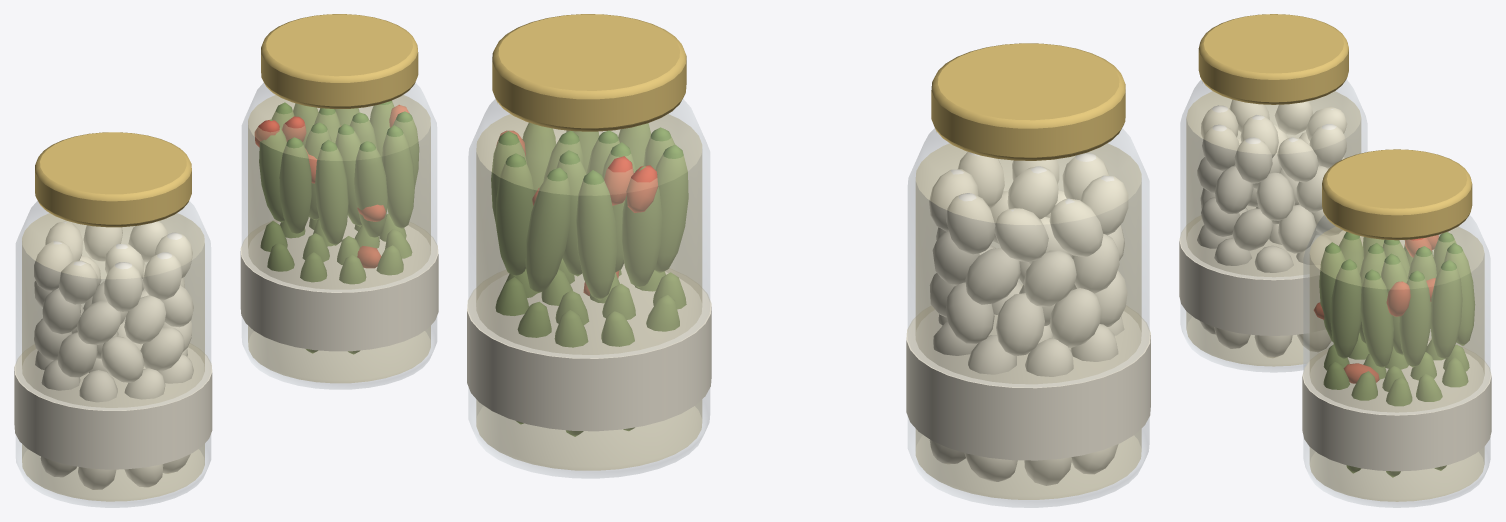
Rendered from jars.glb.
3 renders of one model, left to right at view 1: azimuth 30°, elevation 25°; view 2: azimuth 150°, elevation 25°; view 3: azimuth 270°, elevation 25°, orthographic. The views are drawn at different scales.
Visible parts, largest first — view 1: jar_glass, brine, jar_label, quail_egg, lid_gold, pickle, pepper_red; view 2: jar_glass, brine, jar_label, quail_egg, lid_gold, pickle, pepper_red; view 3: jar_glass, brine, jar_label, lid_gold, quail_egg, pickle, pepper_red.
Part boxes in pixels (x1,y1,x2,y2): jar_glass: (16, 83, 436, 507); brine: (22, 95, 430, 501); jar_label: (14, 216, 438, 469); quail_egg: (34, 221, 193, 489); lid_gold: (35, 14, 418, 227); pickle: (259, 100, 419, 354); pepper_red: (254, 104, 409, 268); jar_glass: (468, 99, 1149, 507); brine: (476, 114, 1141, 499); jar_label: (467, 264, 1150, 460); quail_egg: (929, 152, 1128, 485); lid_gold: (492, 14, 1125, 160); pickle: (491, 122, 688, 436); pepper_red: (496, 130, 658, 295); jar_glass: (1180, 80, 1490, 507); brine: (1186, 91, 1484, 501); jar_label: (1179, 205, 1491, 471); lid_gold: (1198, 14, 1472, 240); quail_egg: (1197, 100, 1346, 357); pickle: (1319, 232, 1474, 477); pepper_red: (1314, 235, 1438, 383).
Bounding box in the file's own units: 0.4136 × 0.261 × 0.2536.
